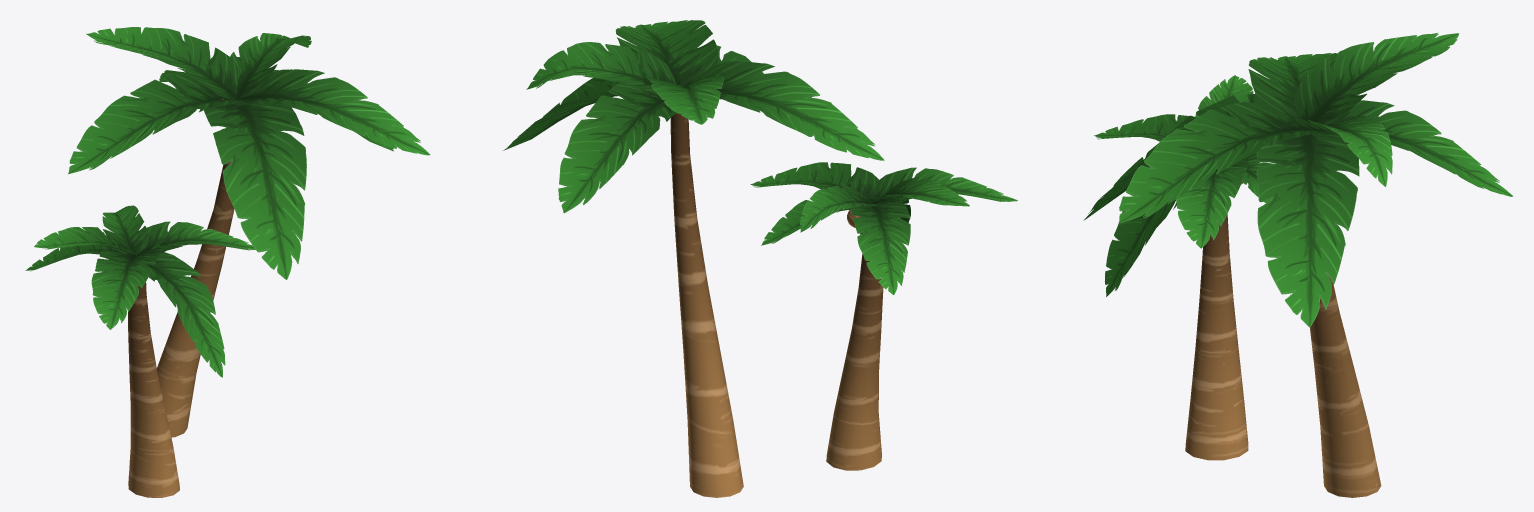
The model's file is palma2.obj.
The picture shows the model from 3 angles, left to right: view 1: azimuth 30°, elevation 25°; view 2: azimuth 150°, elevation 25°; view 3: azimuth 270°, elevation 25°; orthographic projection. The views are drawn at different scales.
Visible parts, largest first — view 1: palmas:tree1_leave7; view 2: palmas:tree1_leave7; view 3: palmas:tree1_leave7.
Part boxes in pixels (bbox=[...]): palmas:tree1_leave7: bbox=[25, 27, 430, 497]; palmas:tree1_leave7: bbox=[503, 20, 1017, 497]; palmas:tree1_leave7: bbox=[1083, 32, 1513, 497].
Size of the model in its own units: 15.2 by 13.64 by 12.93.
